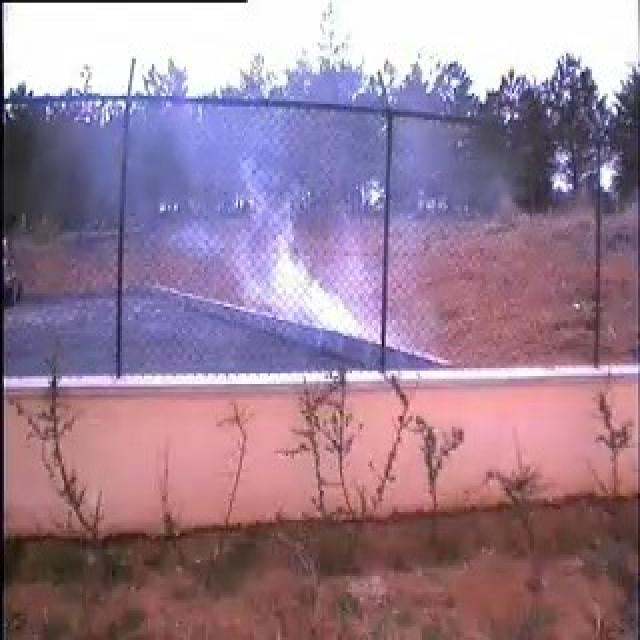smoke: (171, 150, 406, 350)
